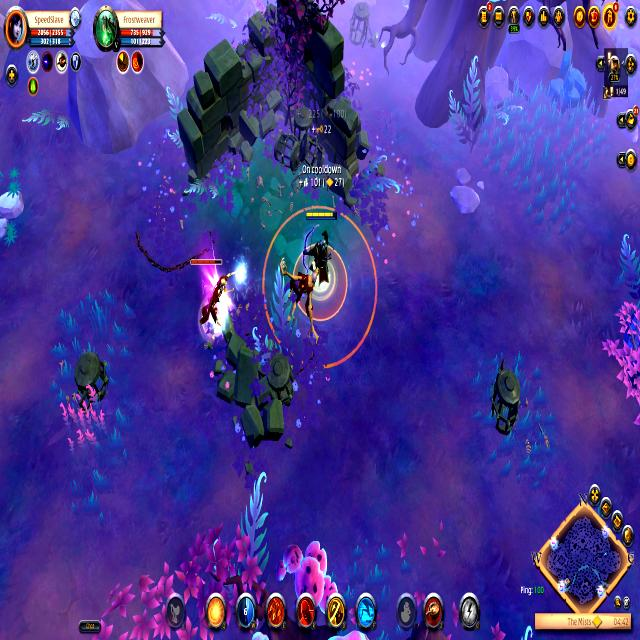ore: (189, 252, 228, 338)
red: (303, 207, 337, 294)
silver: (260, 200, 381, 372), (277, 258, 324, 352)
